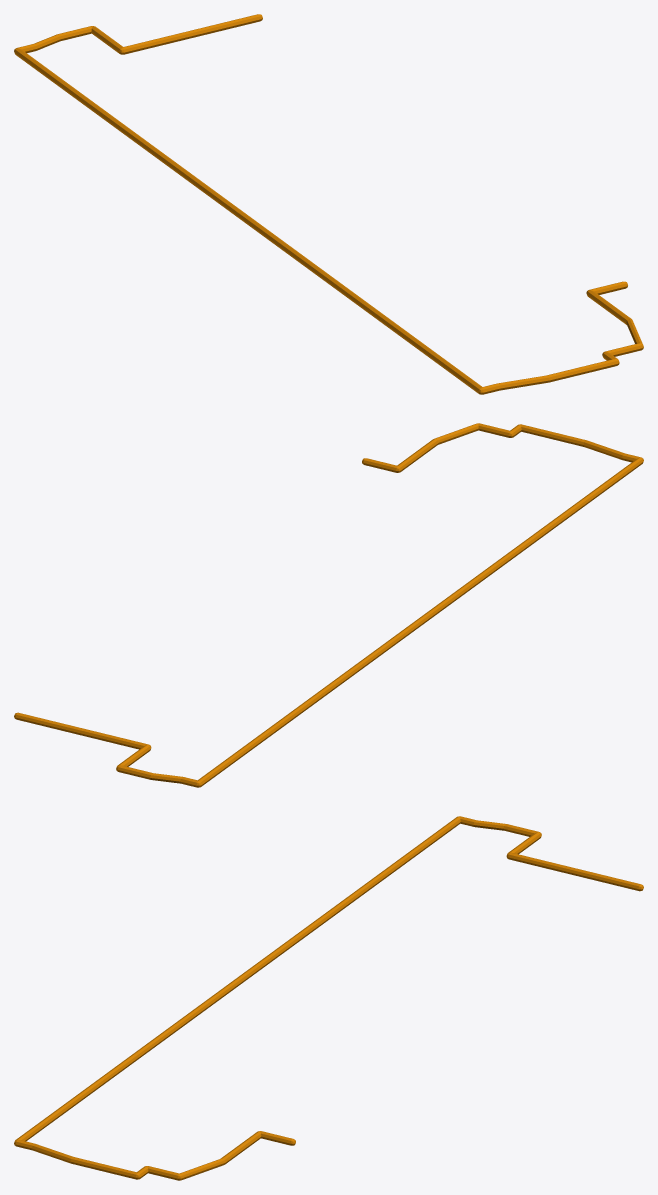
3 views of the same model, one above another, from view 1: azimuth 30°, elevation 25°; view 2: azimuth 150°, elevation 25°; view 3: azimuth 330°, elevation 25° (orthographic). The views are drawn at different scales.
Bounding box in the file's own units: 651 × 20 × 2410.
